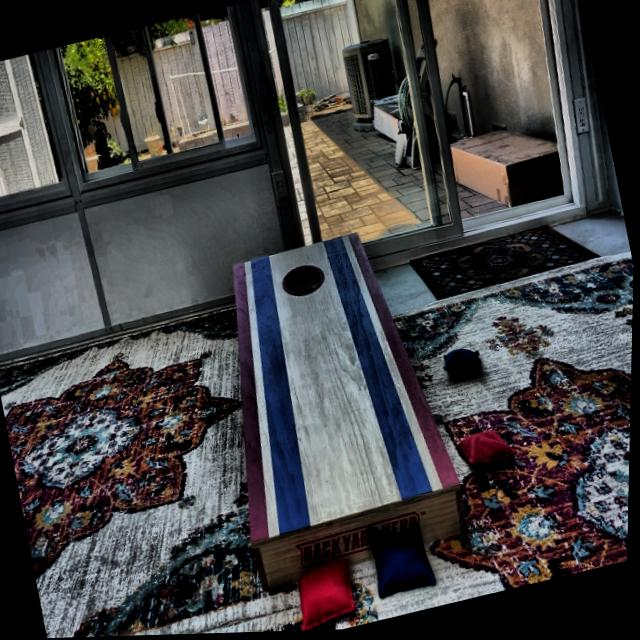blue-bean-bag: (366, 517, 439, 601), (442, 345, 486, 384)
board: (223, 230, 426, 532)
hole: (279, 261, 329, 302)
red-bean-bag: (292, 557, 363, 633), (456, 427, 519, 474)
